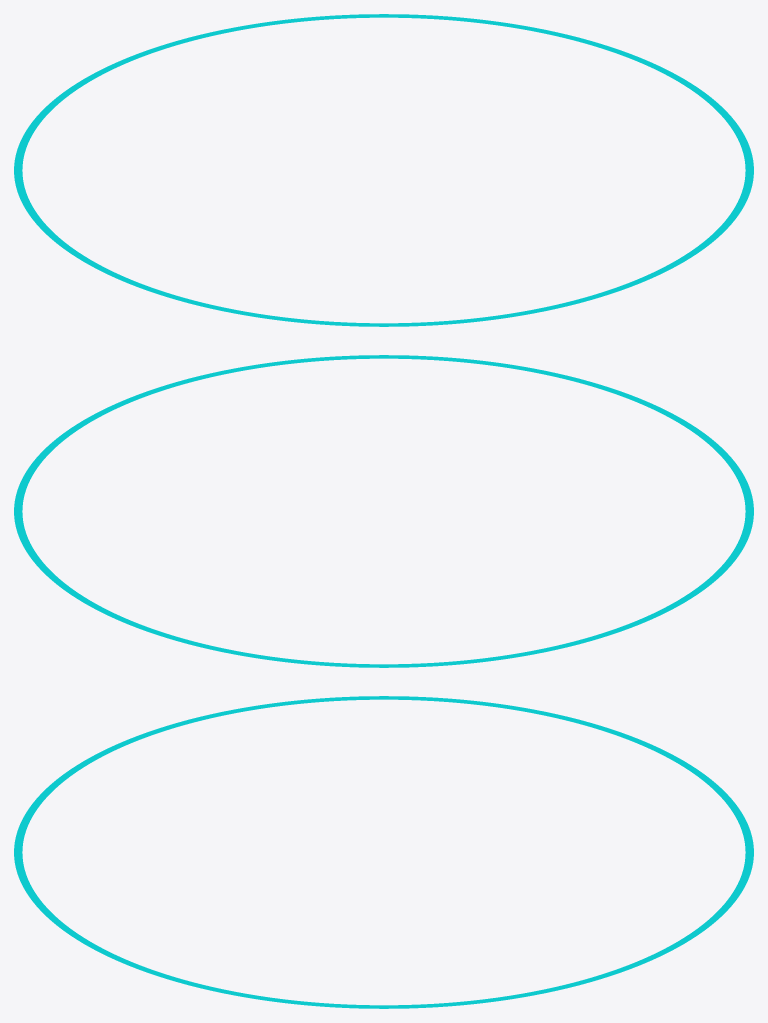
File: ring_04.fbx
3 renders of one model, top to bottom at view 1: azimuth 30°, elevation 25°; view 2: azimuth 150°, elevation 25°; view 3: azimuth 270°, elevation 25°, orthographic.
Visible parts, largest first — view 1: polySurface399; view 2: polySurface399; view 3: polySurface399.
Boxes of the visible parts, x1,y1,x2,y2 form: polySurface399: [14, 14, 753, 326]; polySurface399: [14, 355, 753, 667]; polySurface399: [14, 696, 753, 1008].
Bounding box in the file's own units: 818 × 0 × 818.
